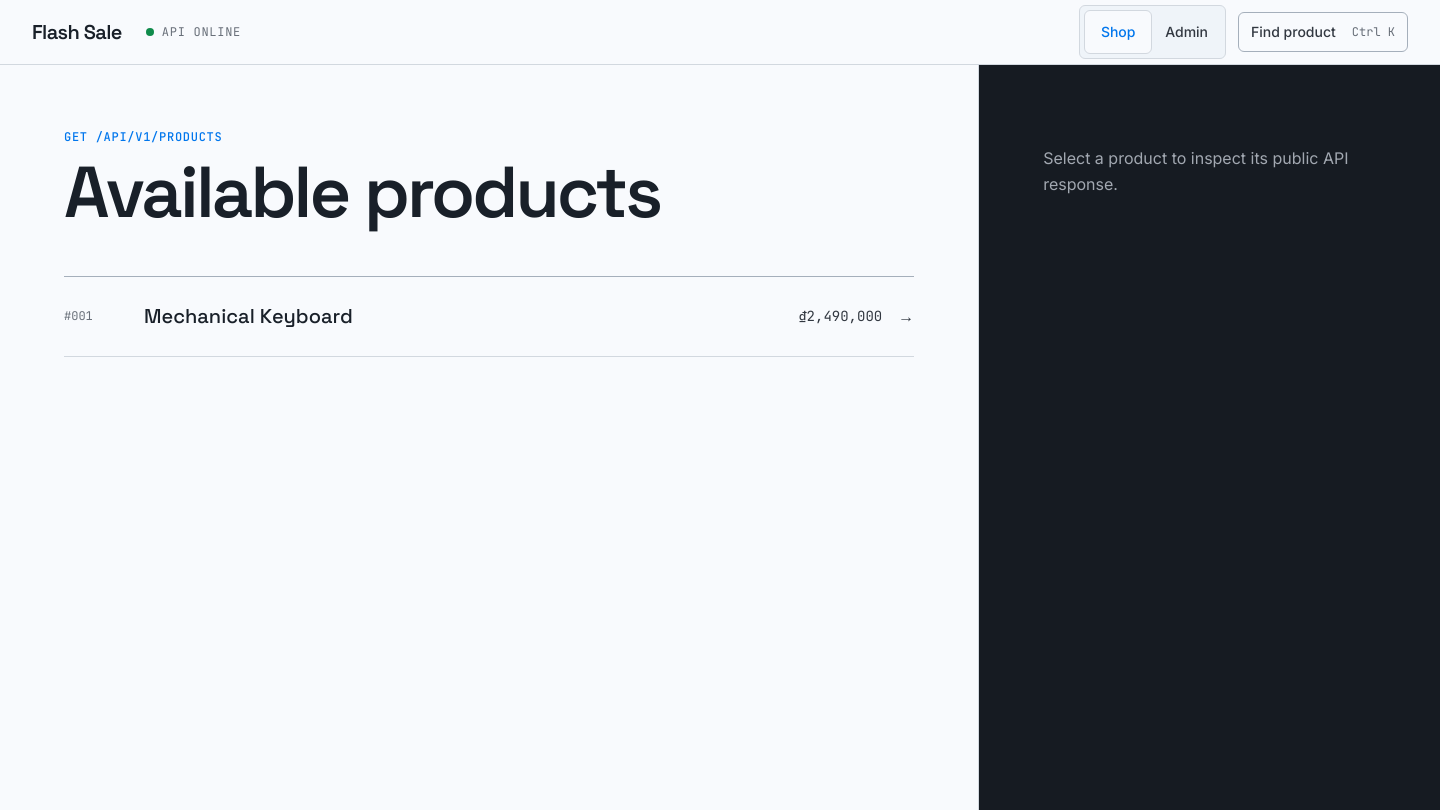
Test case: App › shows which product detail is loading
Click the button "#001 Mechanical Keyboard ₫2,490,000 →": [248, 316] box [64, 276, 914, 356]
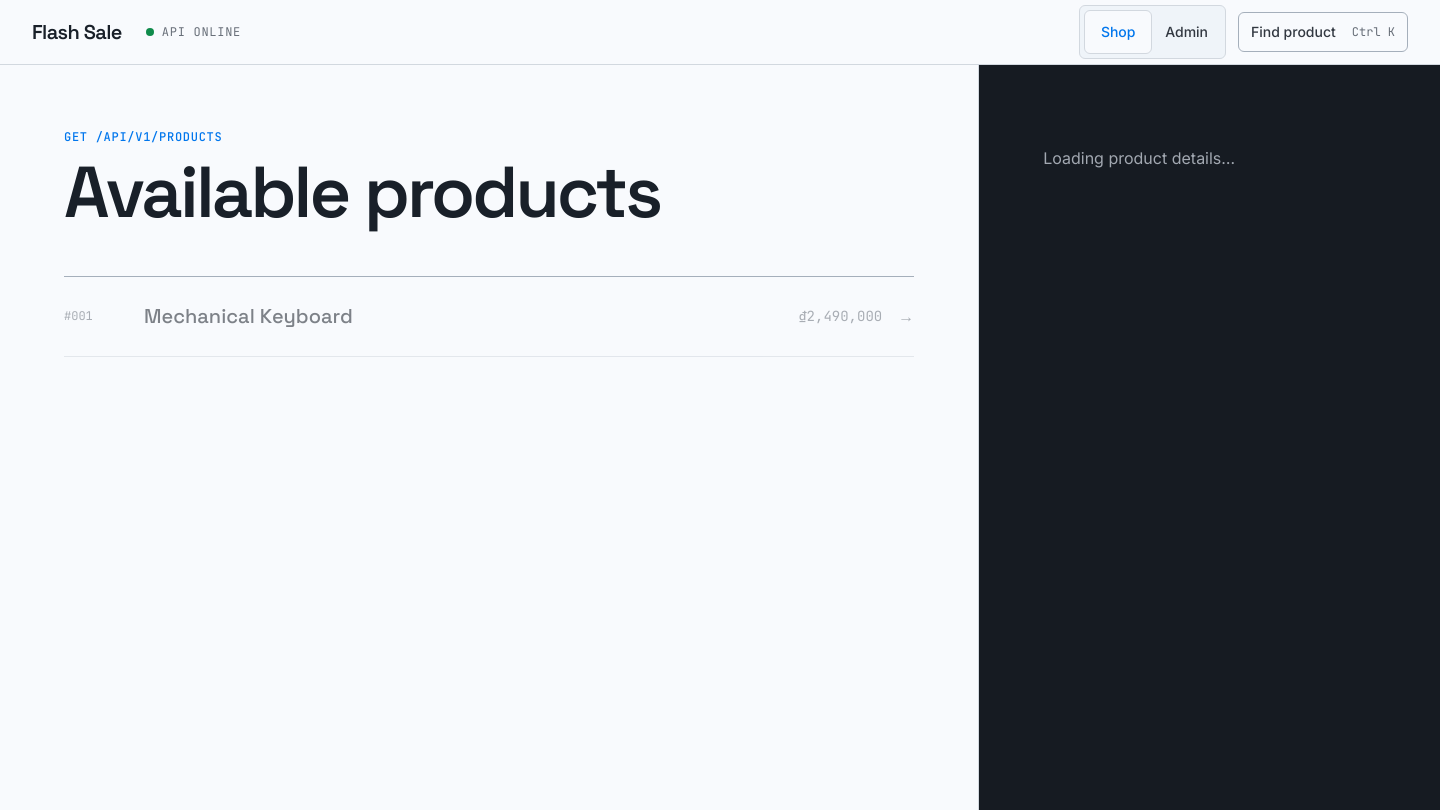
Now the text "Loading product details…" is shown, box [1043, 148, 1235, 168]
